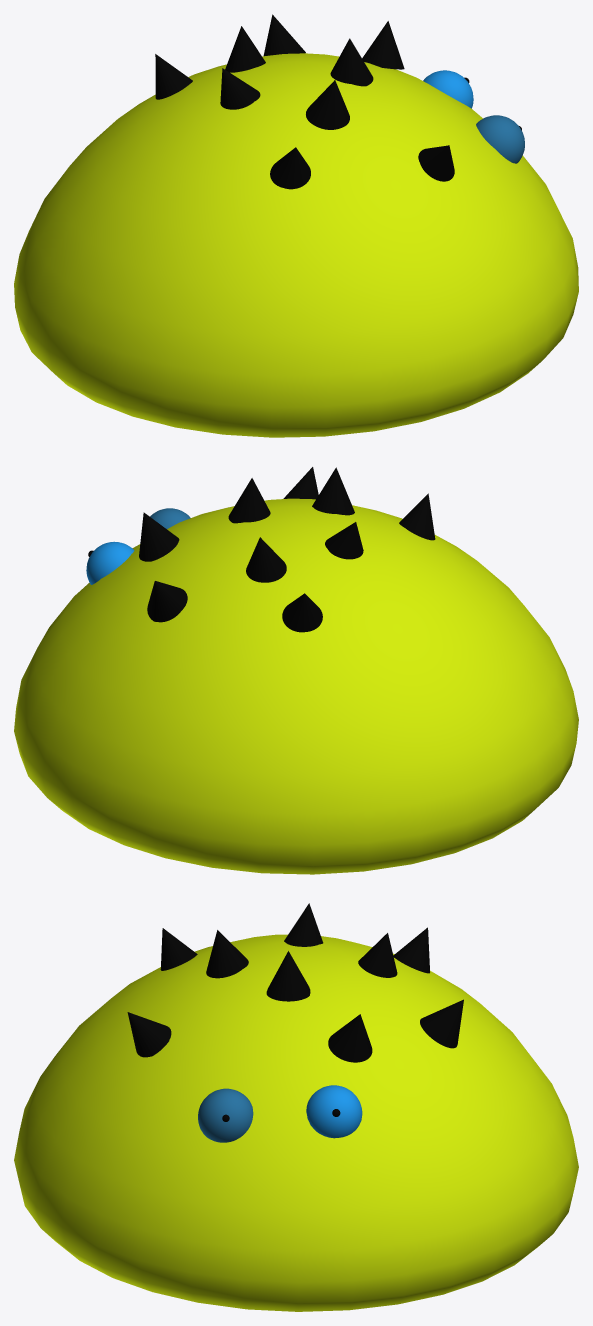
File: Experiment0-1.fbx
3 renders of one model, top to bottom at view 1: azimuth 30°, elevation 25°; view 2: azimuth 150°, elevation 25°; view 3: azimuth 270°, elevation 25°, orthographic. The views are drawn at different scales.
Parts seen in each view (by area): view 1: Body, Sphere.001, spike 3, spike 2, spike 5, spike 9, spike 6, Sphere.002, spike 4, spike 7, spike 8, Spike; view 2: Body, Spike, spike 9, Sphere.002, spike 7, spike 8, spike 3, spike 5, spike 6, spike 2, spike 4, Sphere.001; view 3: Body, Sphere.001, Sphere.002, spike 9, spike 5, Spike, spike 4, spike 3, spike 7, spike 8, spike 6, spike 2.
Part boxes in pixels (box(x1,y1,x2,y2)): Body: box(14, 53, 578, 437); Sphere.001: box(476, 115, 524, 163); spike 3: box(306, 80, 349, 129); spike 2: box(270, 147, 310, 189); spike 5: box(330, 38, 373, 86); spike 9: box(362, 21, 404, 69); spike 6: box(220, 68, 260, 109); Sphere.002: box(423, 70, 473, 108); spike 4: box(418, 145, 454, 181); spike 7: box(225, 26, 265, 72); spike 8: box(155, 54, 192, 99); Spike: box(263, 14, 305, 56); Body: box(14, 498, 578, 874); Spike: box(147, 581, 187, 622); spike 9: box(139, 512, 179, 561); Sphere.002: box(86, 541, 134, 584); spike 7: box(246, 537, 286, 582); spike 8: box(282, 593, 322, 632); spike 3: box(312, 467, 354, 515); spike 5: box(228, 478, 270, 523); spike 6: box(325, 522, 363, 559); spike 2: box(399, 493, 435, 540); spike 4: box(283, 467, 318, 499); Sphere.001: box(150, 508, 190, 528); Body: box(14, 934, 578, 1311); Sphere.001: box(198, 1088, 253, 1142); Sphere.002: box(306, 1085, 362, 1138); spike 9: box(328, 1014, 372, 1062); spike 5: box(266, 951, 310, 1001); Spike: box(420, 999, 463, 1048); spike 4: box(127, 1012, 171, 1057); spike 3: box(206, 930, 248, 978); spike 7: box(358, 933, 397, 977); spike 8: box(393, 927, 429, 973); spike 6: box(284, 903, 323, 946); spike 2: box(160, 928, 197, 970).
Bounding box in the file's own units: 173 × 96.85 × 172.
